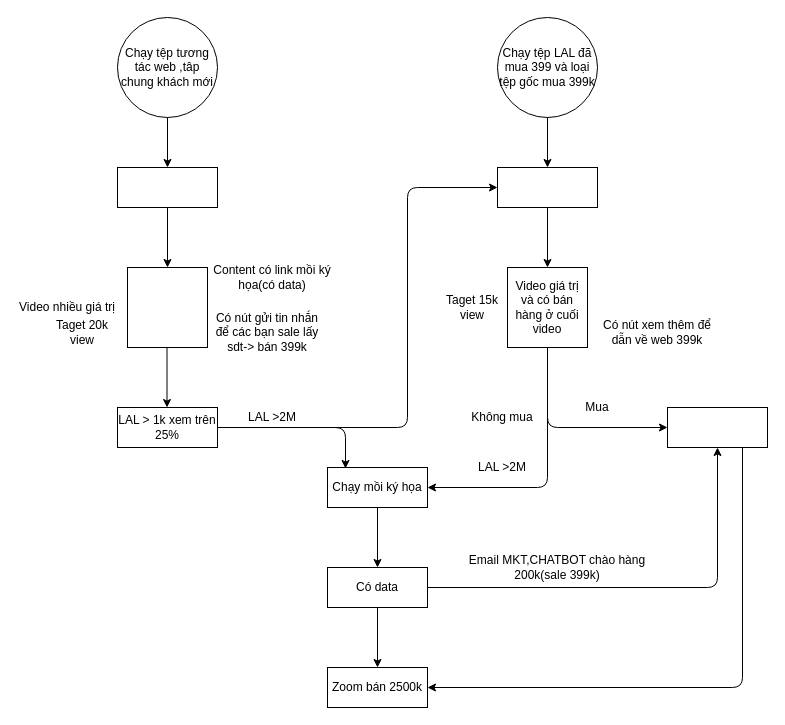
The diagram is 785 pixels wide and 725 high, and some of its shapes have lost their labels. The shapes that lost their labels are listed below. From the top down, each one's centre as x and y in pixels, then its label:
the point at 167,187: ADS chạy video
the point at 547,187: ADS thẳng 399k
the point at 167,307: Video không có 1 lời bán hàng nào
the point at 717,427: Có tiền,có data
